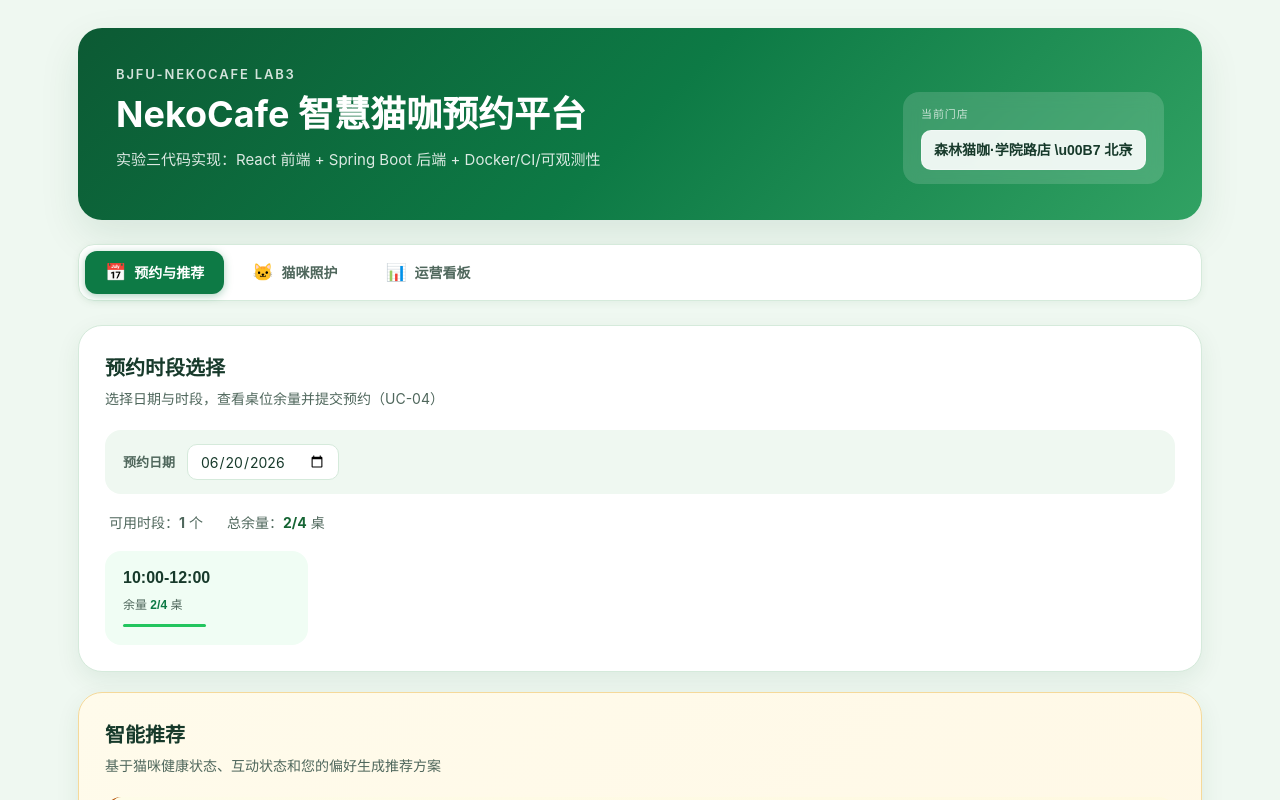
Reservation page › loads slots and shows success after reservation submission
Click the text "10:00-12:00".
click(167, 578)  # box [123,569,210,587]
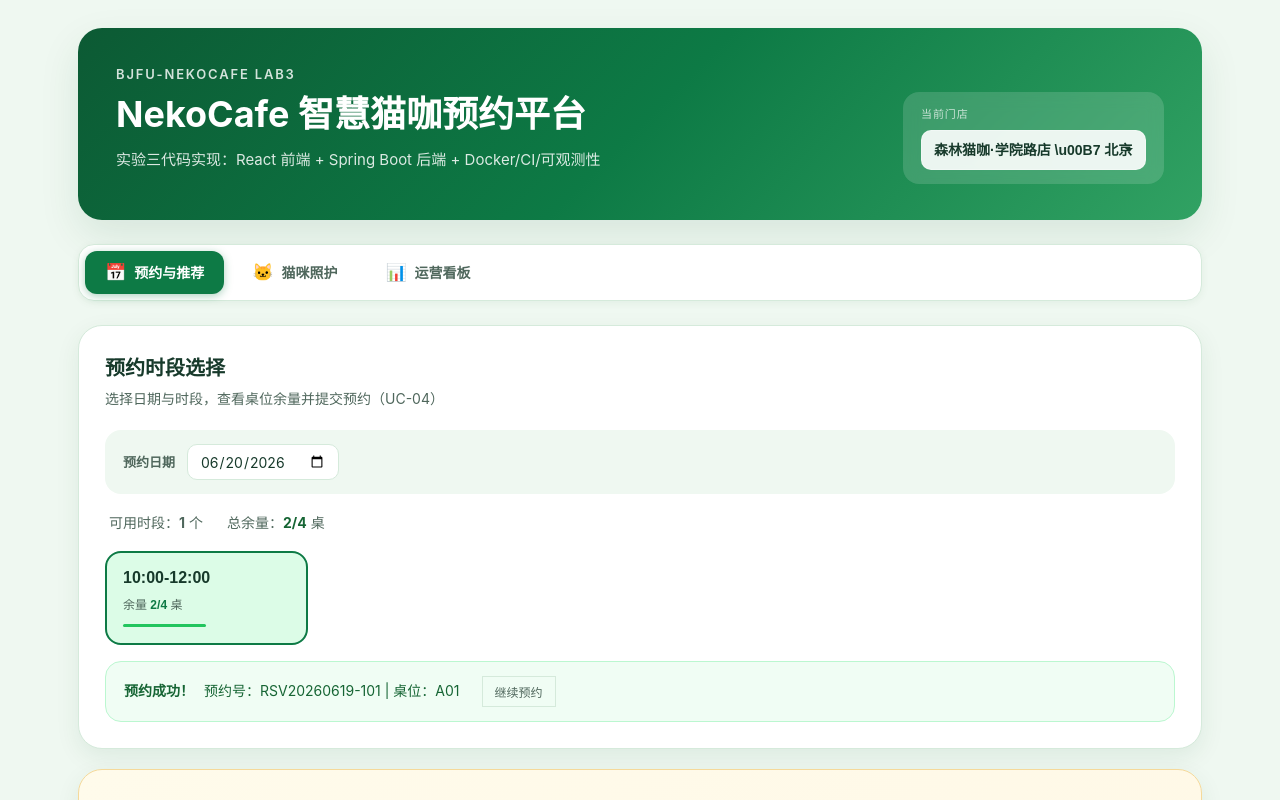
Now the text "预约成功！" is shown, box [124,680,194,702]
Now the text "预约成功！ 预约号：RSV20260619-101 | 桌位：A01 继续预约" is shown, box [105,661,1175,722]
